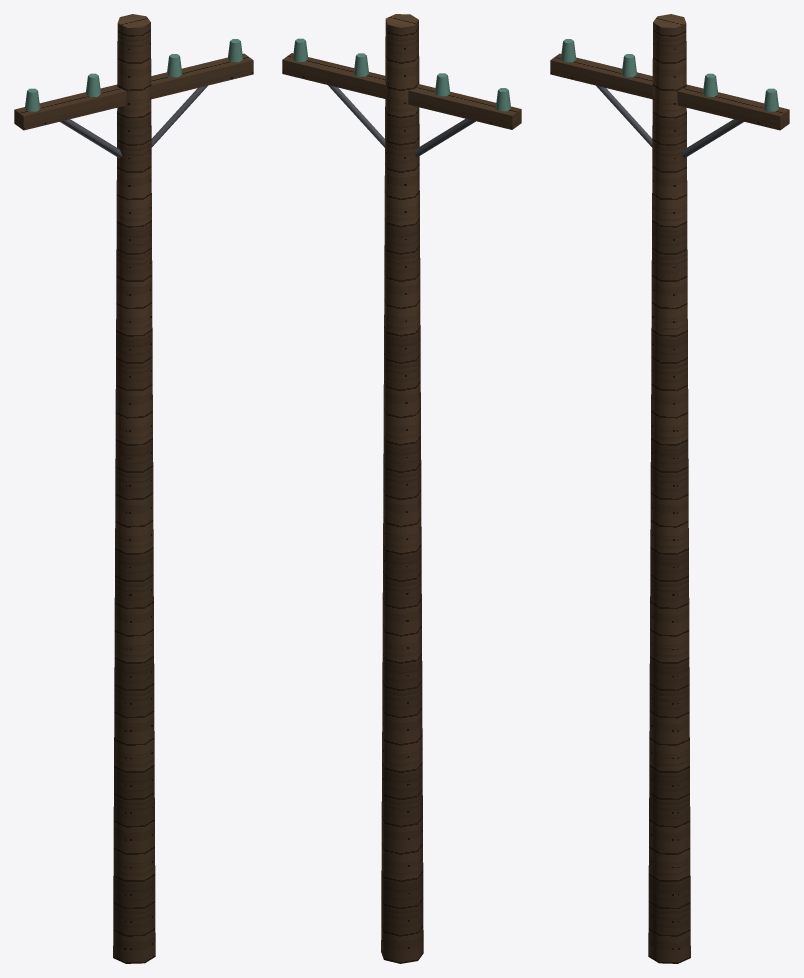
File: poste_de_telegrafo.glb
The picture shows the model from 3 angles, left to right: view 1: azimuth 30°, elevation 25°; view 2: azimuth 150°, elevation 25°; view 3: azimuth 330°, elevation 25°; orthographic projection.
Visible parts, largest first — view 1: poste_de_telegrafo_madeira, poste_de_telegrafo; view 2: poste_de_telegrafo_madeira, poste_de_telegrafo; view 3: poste_de_telegrafo_madeira, poste_de_telegrafo.
Part boxes in pixels (x1=…): poste_de_telegrafo_madeira: x1=14, y1=14, x2=253, y2=963; poste_de_telegrafo: x1=24, y1=39, x2=243, y2=158; poste_de_telegrafo_madeira: x1=282, y1=14, x2=521, y2=963; poste_de_telegrafo: x1=292, y1=38, x2=511, y2=157; poste_de_telegrafo_madeira: x1=550, y1=14, x2=789, y2=963; poste_de_telegrafo: x1=560, y1=39, x2=779, y2=158.
Bounding box in the file's own units: 1.7 × 6.6 × 0.2661.
2 materials, 1 textured.
